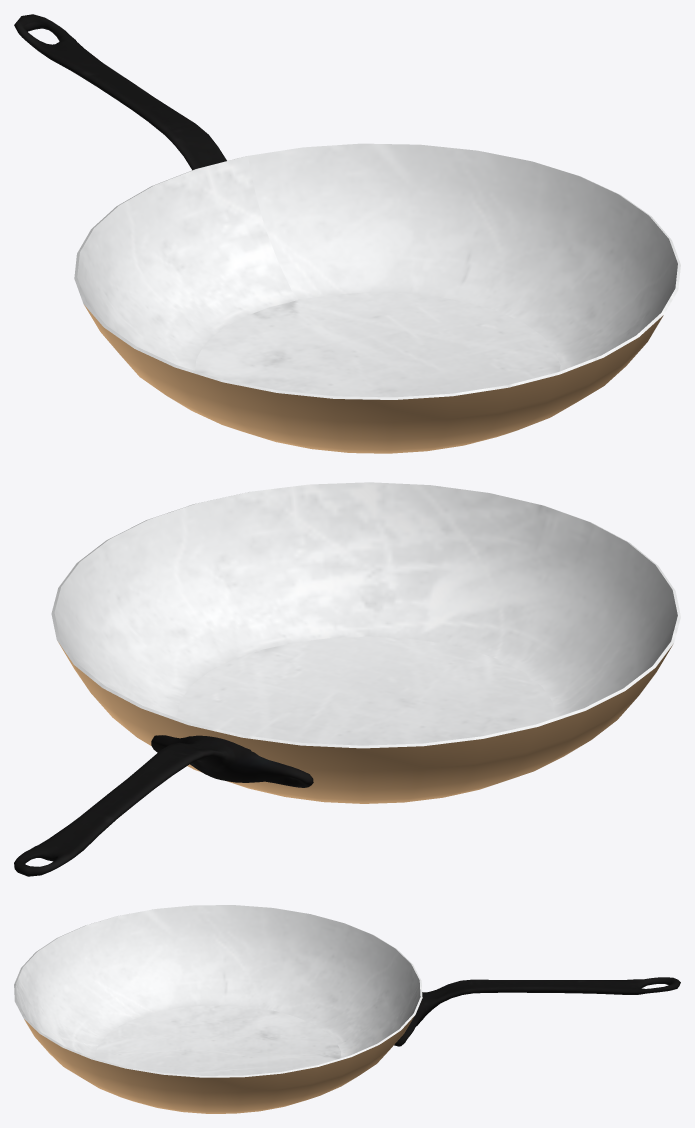
The model's file is Prop_Kitchen_Pan_x4.fbx.
3 views of the same model, one above another, from view 1: azimuth 30°, elevation 25°; view 2: azimuth 150°, elevation 25°; view 3: azimuth 270°, elevation 25° (orthographic). The views are drawn at different scales.
Parts seen in each view (by area): view 1: Prop_Kitchen_Pan_x4; view 2: Prop_Kitchen_Pan_x4; view 3: Prop_Kitchen_Pan_x4.
Boxes of the visible parts, box(x1,y1,x2,y2) form: Prop_Kitchen_Pan_x4: box(14, 14, 680, 453); Prop_Kitchen_Pan_x4: box(14, 482, 680, 876); Prop_Kitchen_Pan_x4: box(14, 905, 680, 1113).
Size of the model in its own units: 21.42 by 4.32 by 34.97.
